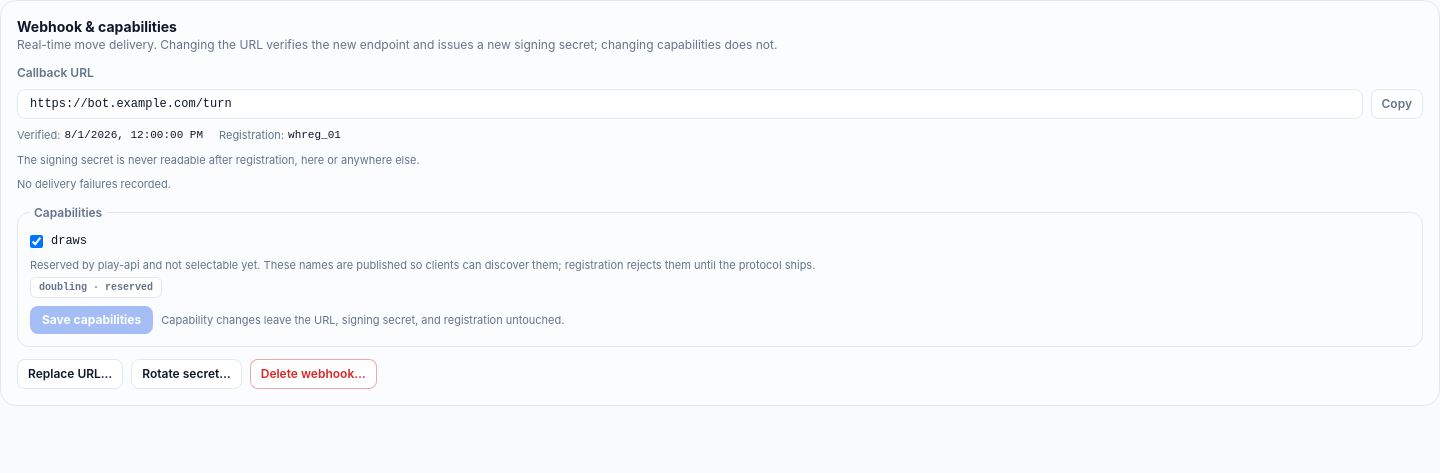
BotWebhookPanel › capabilities › recovers a stale capability write by showing the server state
What coordinates should you click on to do the following:
click the checkbox labelled "draws"
I would click on:
 (36, 241)
Its box is top-left (30, 234), bottom-right (43, 248).
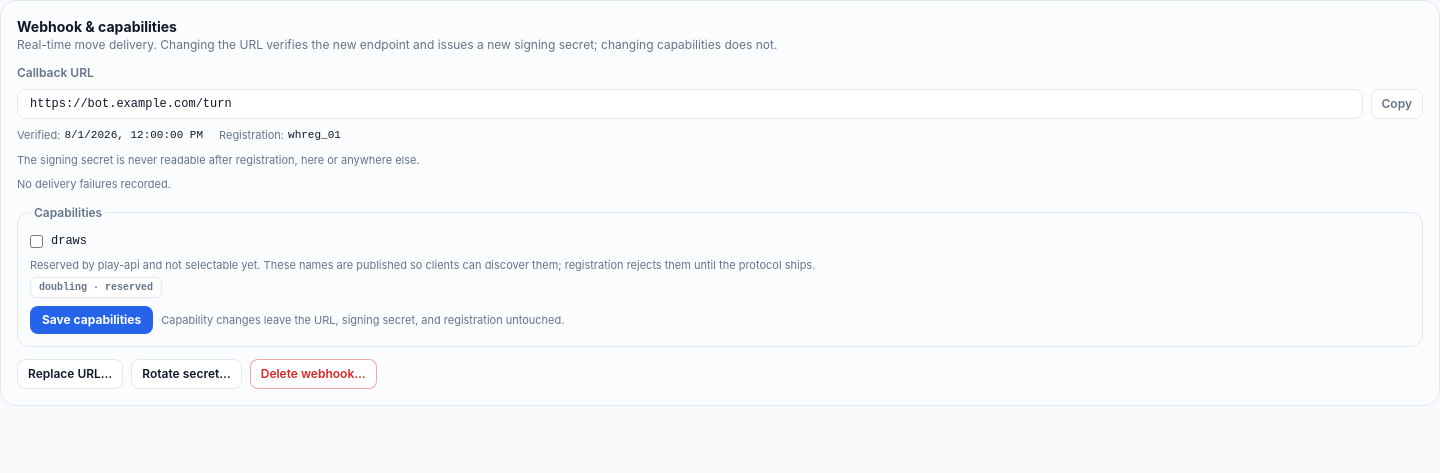
What coordinates should you click on to do the following:
click the button "Save capabilities"
I would click on:
 (92, 320)
Its box is top-left (30, 306), bottom-right (153, 334).
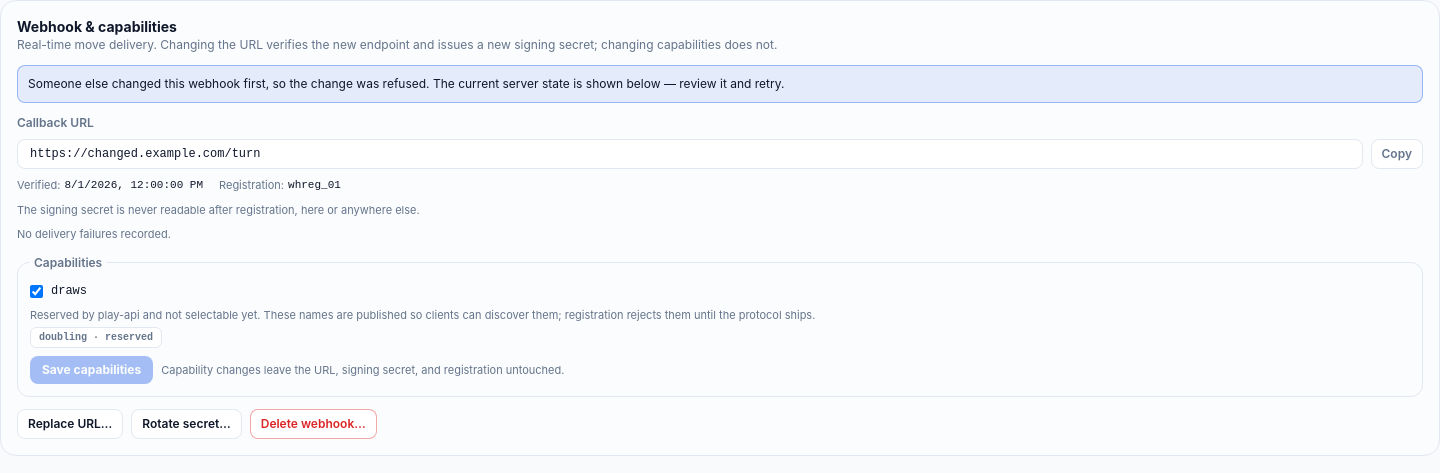
Check: the text "changed this webhook first" is shown, box top-left (28, 76), bottom-right (784, 91)
Check: the field showing "https://changed.example.com/turn" is shown, box top-left (17, 139), bottom-right (1362, 169)
